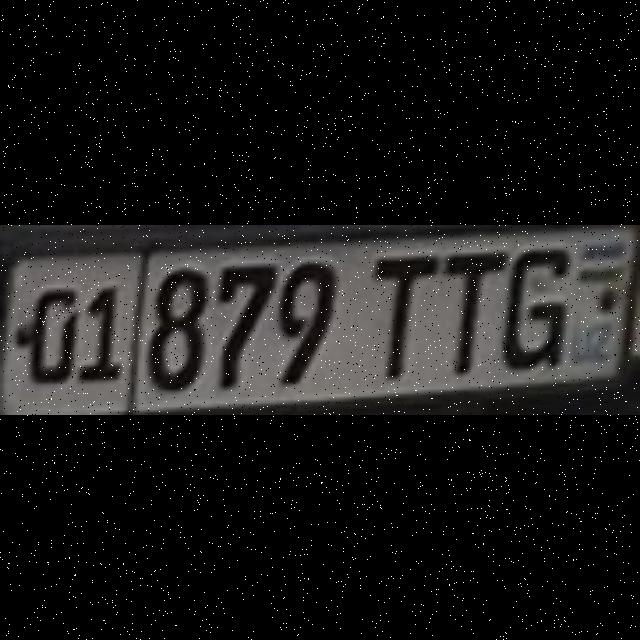0: (25, 286, 71, 380)
1: (74, 282, 116, 376)
7: (212, 260, 272, 384)
8: (141, 264, 201, 388)
9: (276, 260, 332, 384)
G: (498, 246, 562, 370)
T: (368, 250, 434, 374), (438, 246, 502, 370)
